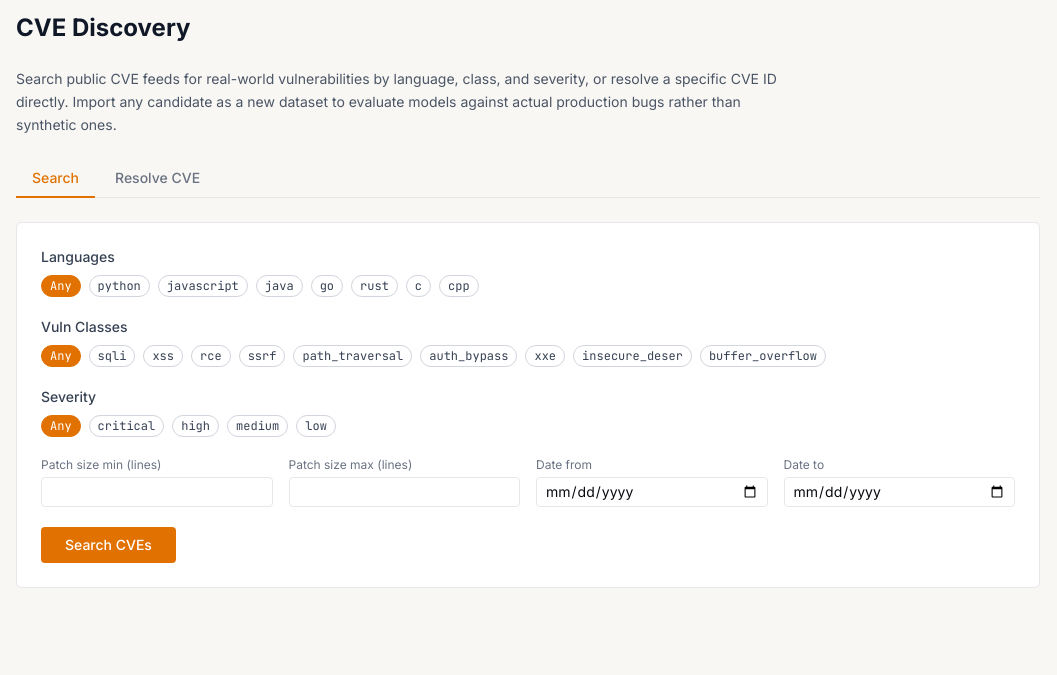
Scenario: CVEDiscovery — Search tab: error state › shows error message when discoverCVEs rejects
Step 1. Click the button "Search CVEs" → point(108, 545), box [41,527,176,563]
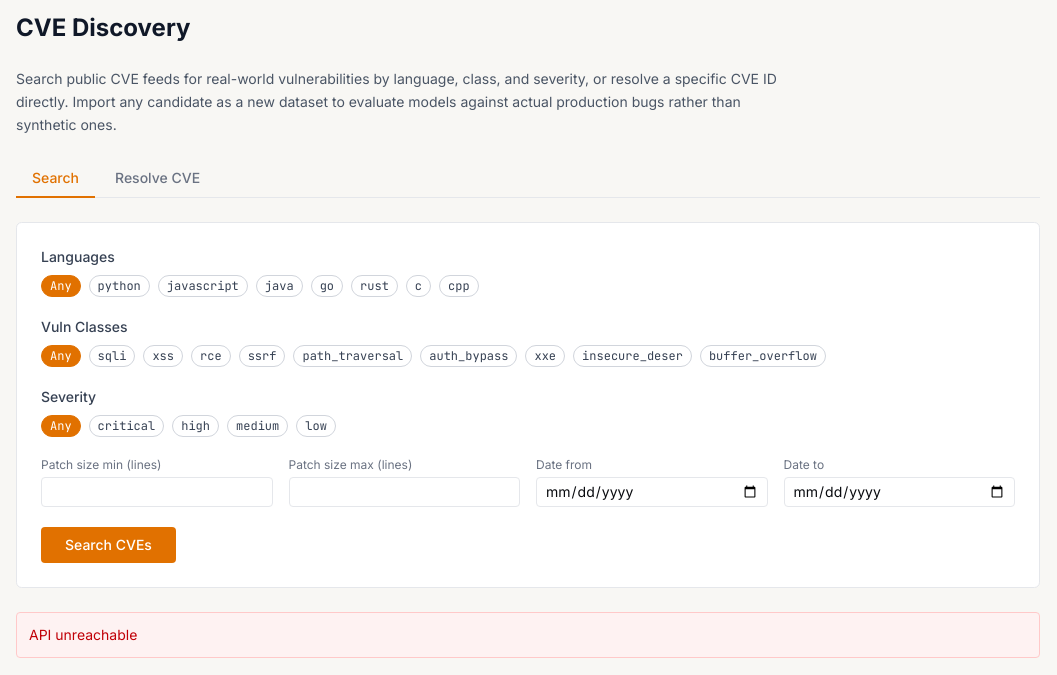
Now the text "API unreachable" is shown, box [16,612,1040,658]
